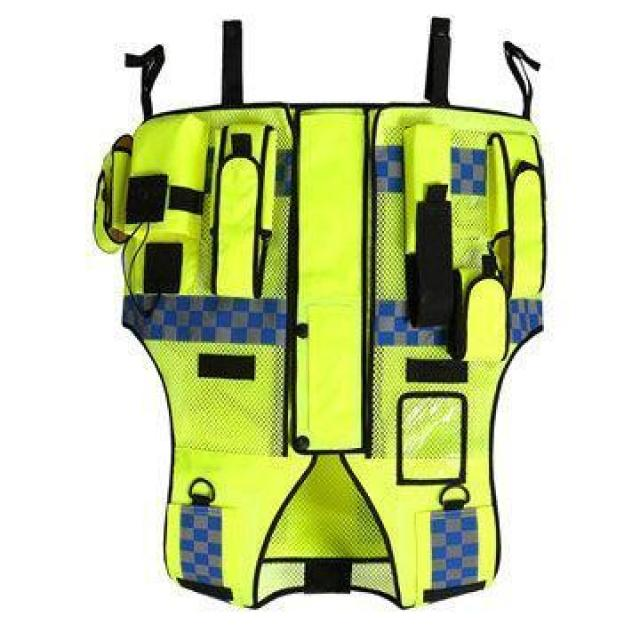jacket: (89, 16, 591, 620)
